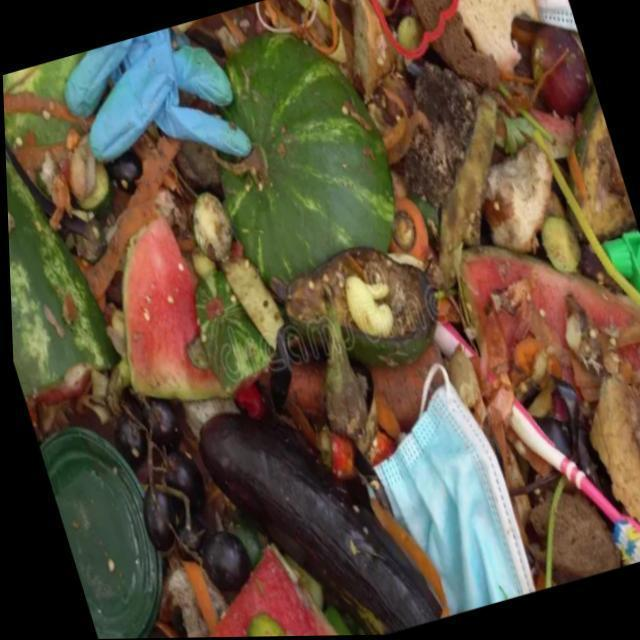Disposable: (64, 28, 250, 161)
Garbage: (2, 0, 640, 639)
Plastic: (36, 426, 158, 639), (507, 400, 640, 566), (431, 323, 472, 359)
